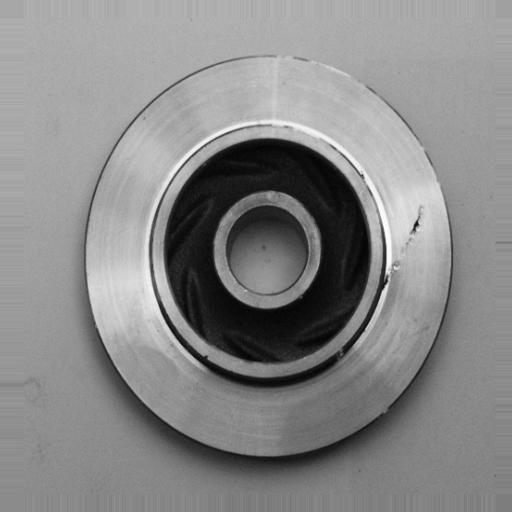crack: (379, 195, 432, 293)
unpolished_casting: (80, 51, 454, 463)
